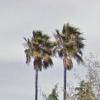Palm tree: (14, 19, 84, 97)
